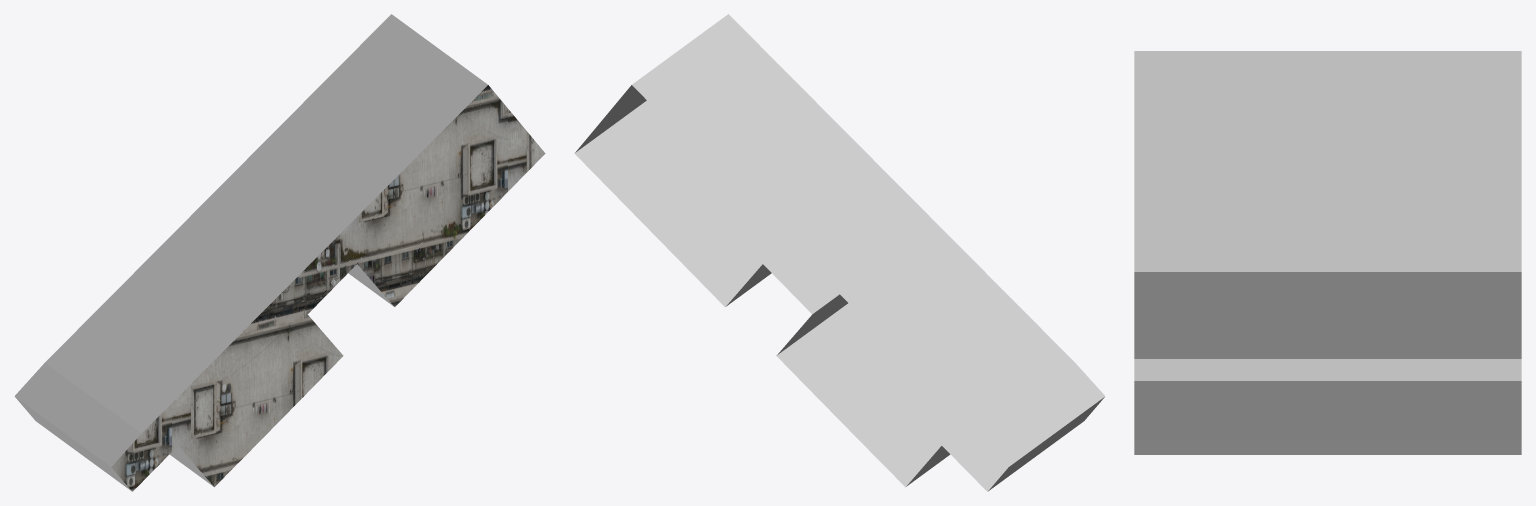
File: geospecific_1666.obj
The picture shows the model from 3 angles, left to right: view 1: azimuth 30°, elevation 25°; view 2: azimuth 150°, elevation 25°; view 3: azimuth 270°, elevation 25°; orthographic projection. The views are drawn at different scales.
Visible parts, largest first — view 1: Building; view 2: Building; view 3: Building.
Boxes of the visible parts, bbox=[...] form: Building: bbox=[14, 14, 545, 491]; Building: bbox=[574, 14, 1105, 491]; Building: bbox=[1134, 51, 1521, 454].
Size of the model in its own units: 23.3 by 17.2 by 9.
